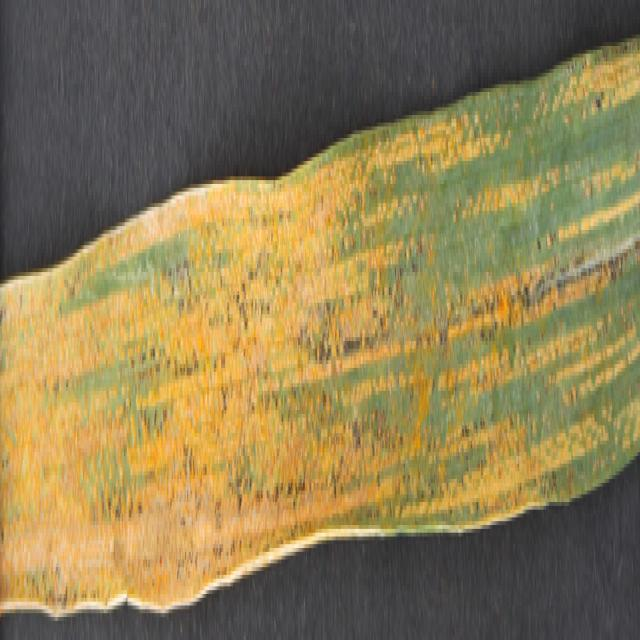leaf rust: (0, 46, 640, 617)
